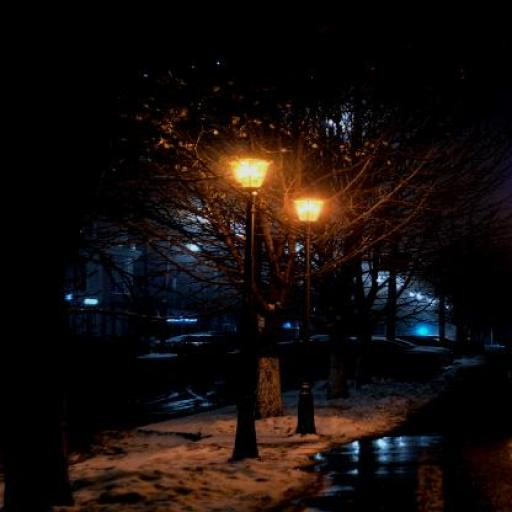street light: (225, 143, 276, 460), (293, 190, 325, 433)
